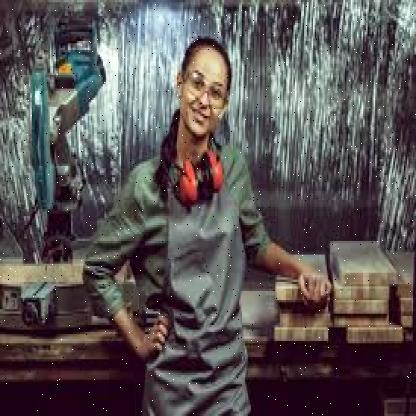oculos: (186, 70, 227, 106)
